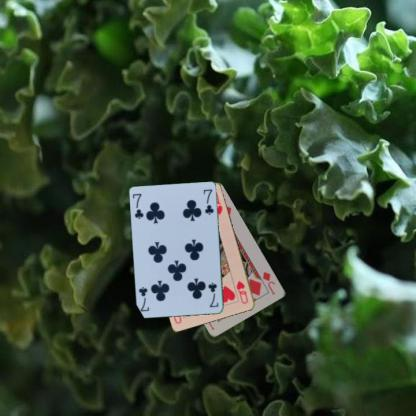7c: (130, 191, 144, 221), (206, 280, 220, 309)
Jd: (260, 270, 277, 297)
Qh: (234, 278, 250, 305)
